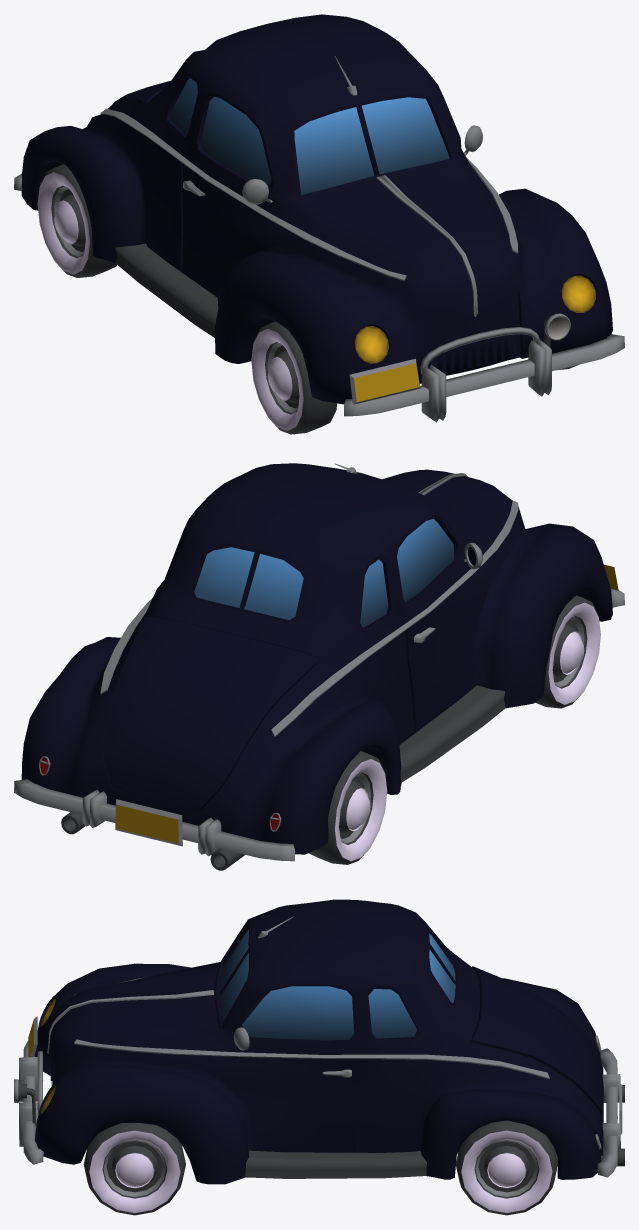
File: Car_7.fbx
3 views of the same model, one above another, from view 1: azimuth 30°, elevation 25°; view 2: azimuth 150°, elevation 25°; view 3: azimuth 270°, elevation 25° (orthographic). The views are drawn at different scales.
Parts seen in each view (by area): view 1: 7_Car_BaseBody, 7_Car_Glass, 7_Car_FrontRight, 7_Car_BackRight; view 2: 7_Car_BaseBody, 7_Car_Glass, 7_Car_BackRight, 7_Car_FrontRight; view 3: 7_Car_BaseBody, 7_Car_Glass, 7_Car_BackLeft, 7_Car_FrontLeft.
Boxes of the visible parts, bbox=[...] form: 7_Car_BaseBody: bbox=[14, 14, 624, 422]; 7_Car_Glass: bbox=[171, 78, 449, 194]; 7_Car_FrontRight: bbox=[251, 321, 337, 434]; 7_Car_BackRight: bbox=[37, 164, 116, 277]; 7_Car_BaseBody: bbox=[14, 463, 624, 870]; 7_Car_Glass: bbox=[194, 519, 454, 627]; 7_Car_BackRight: bbox=[308, 751, 387, 864]; 7_Car_FrontRight: bbox=[535, 595, 600, 708]; 7_Car_BaseBody: bbox=[14, 899, 624, 1184]; 7_Car_Glass: bbox=[221, 929, 455, 1040]; 7_Car_BackLeft: bbox=[456, 1120, 557, 1215]; 7_Car_FrontLeft: bbox=[83, 1123, 185, 1215].
Bounding box in the file's own units: 295 × 243 × 563.
